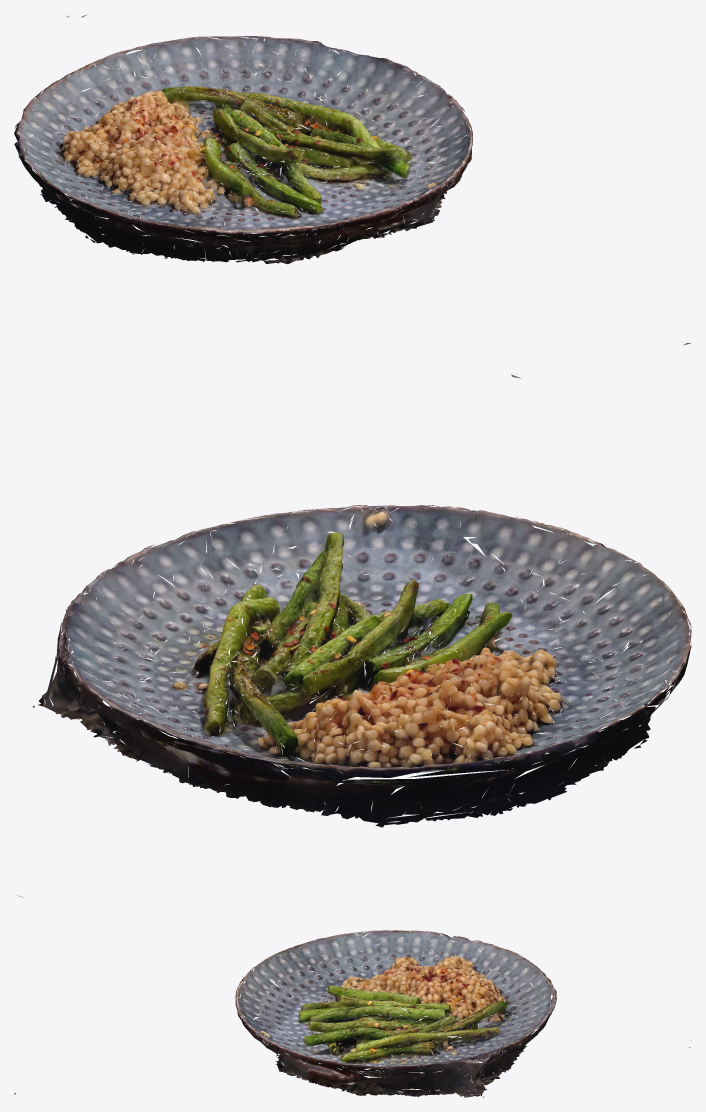
The model's file is Couscous with Beans.glb.
The picture shows the model from 3 angles, top to bottom: view 1: azimuth 30°, elevation 25°; view 2: azimuth 150°, elevation 25°; view 3: azimuth 270°, elevation 25°; orthographic projection. The views are drawn at different scales.
Parts seen in each view (by area): view 1: Object_4; view 2: Object_4; view 3: Object_4.
Boxes of the visible parts, <box> form: Object_4: <box>14,14,690,345</box>; Object_4: <box>17,374,691,897</box>; Object_4: <box>14,930,691,1097</box>.
Size of the model in its own units: 1.18 by 0.1846 by 2.48.
1 material, 1 textured.
